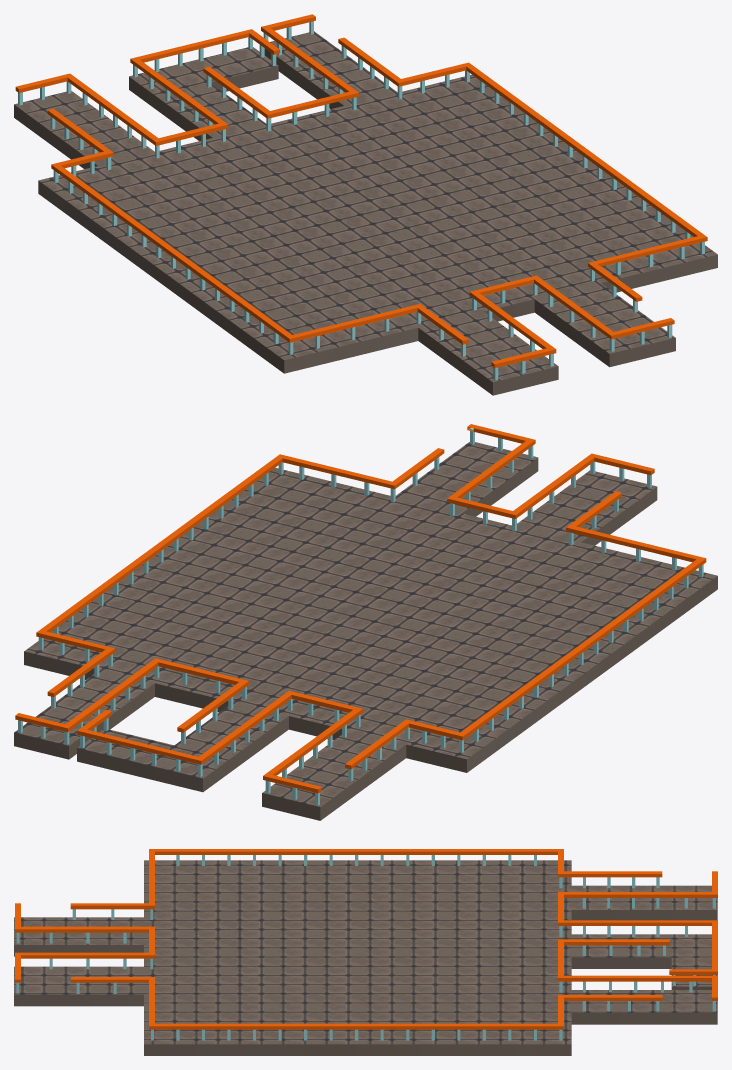
The model's file is 2nd floor.fbx.
The picture shows the model from 3 angles, top to bottom: view 1: azimuth 30°, elevation 25°; view 2: azimuth 150°, elevation 25°; view 3: azimuth 270°, elevation 25°; orthographic projection. The views are drawn at different scales.
Parts seen in each view (by area): view 1: 2nd, Railings.001; view 2: 2nd, Railings.001; view 3: 2nd, Railings.001.
Part boxes in pixels (box(x1,y1,x2,y2)): 2nd: box(14, 31, 717, 395); Railings.001: box(15, 14, 707, 380); 2nd: box(14, 442, 717, 820); Railings.001: box(15, 424, 706, 805); 2nd: box(14, 860, 717, 1055); Railings.001: box(15, 849, 717, 1040).
Size of the model in its own units: 2089 by 140 by 3376.
